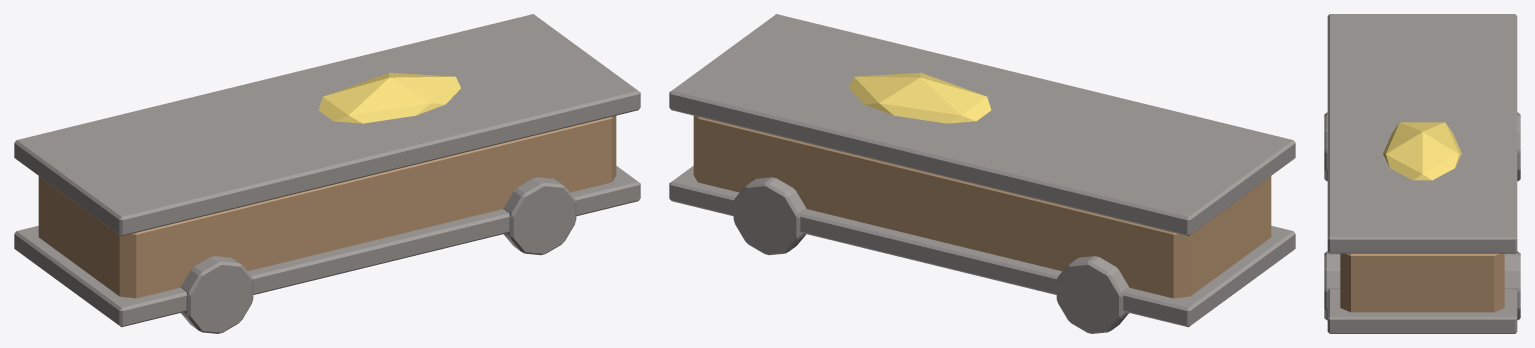
The picture shows the model from 3 angles, left to right: view 1: azimuth 30°, elevation 25°; view 2: azimuth 150°, elevation 25°; view 3: azimuth 270°, elevation 25°; orthographic projection. The views are drawn at different scales.
Parts seen in each view (by area): view 1: SliderVisual; view 2: SliderVisual; view 3: SliderVisual.
Boxes of the visible parts, x1,y1,x2,y2 form: SliderVisual: (14, 14, 640, 333); SliderVisual: (669, 14, 1295, 333); SliderVisual: (1324, 14, 1520, 333).
Size of the model in its own units: 0.42 by 0.1244 by 0.155.
